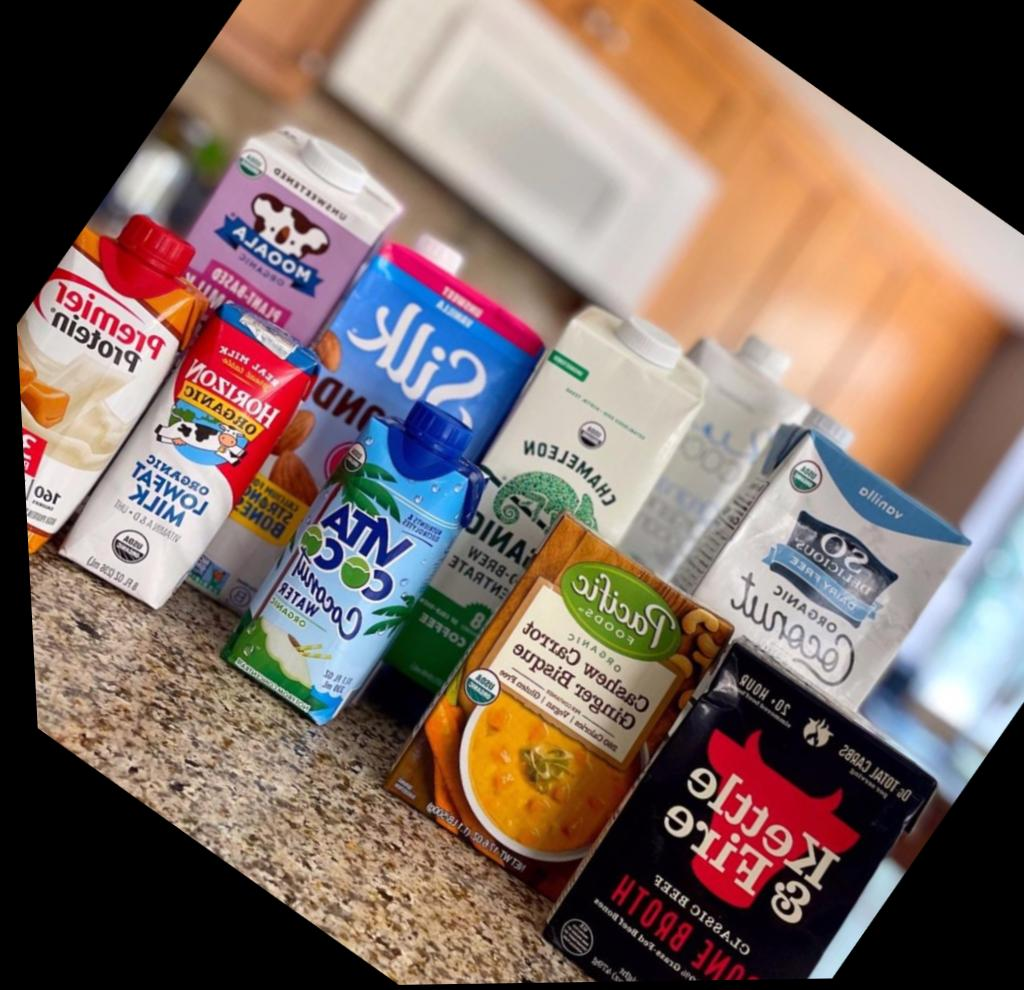cardboard: (328, 285, 704, 689), (387, 517, 731, 900), (546, 648, 935, 984), (626, 426, 1023, 751), (202, 403, 485, 724), (61, 309, 311, 608), (288, 238, 563, 483), (18, 228, 205, 551), (187, 127, 401, 345), (168, 402, 317, 614)
